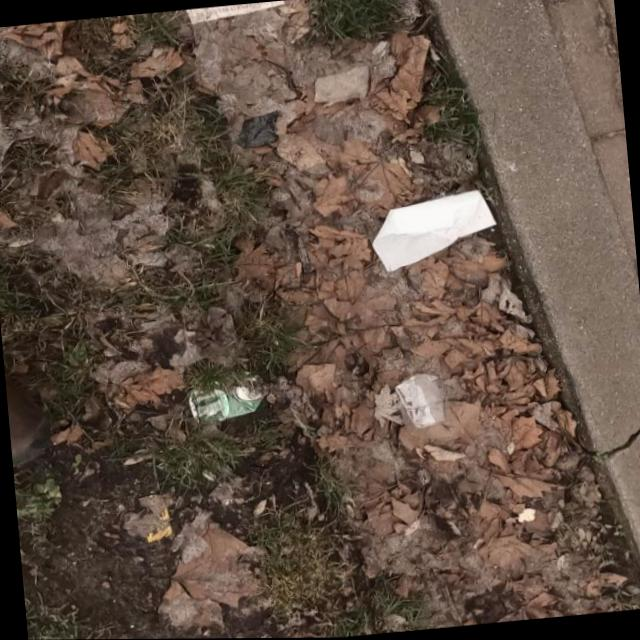Can-Metal: (183, 372, 265, 426)
Paper: (365, 188, 500, 275), (172, 0, 287, 25)
